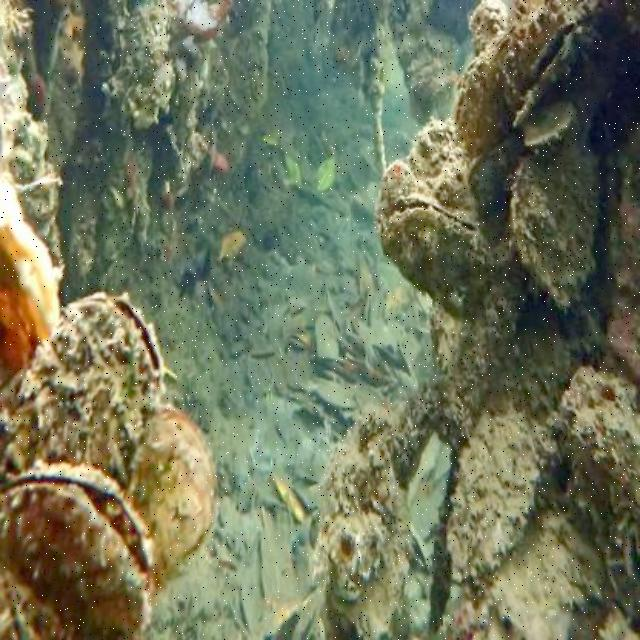Oyster-Closed: (125, 406, 221, 584), (510, 136, 599, 290), (454, 411, 539, 569), (331, 483, 411, 640), (323, 435, 396, 594), (0, 213, 63, 387), (453, 21, 515, 156), (523, 97, 579, 156), (622, 520, 640, 581)
Oyster-Open: (0, 292, 166, 489), (0, 466, 156, 640), (379, 192, 496, 321), (516, 6, 602, 131), (409, 522, 431, 569)
